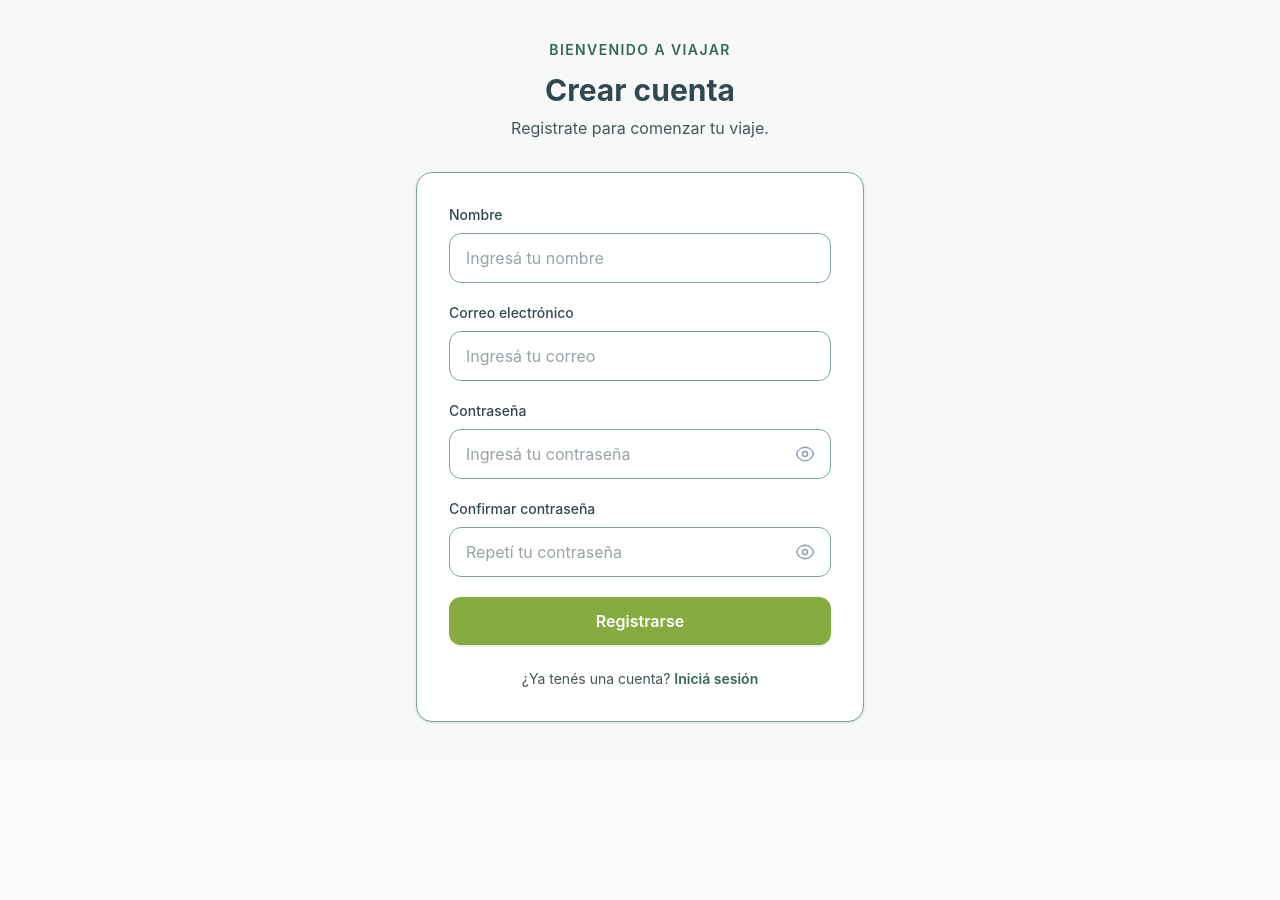
Test: Pruebas del registro › muestra errores cuando los campos están vacíos
What coordinates should you click on to do the following:
click the button "Registrarse"
I would click on:
 (640, 621)
Its box is [449,597,831,645].
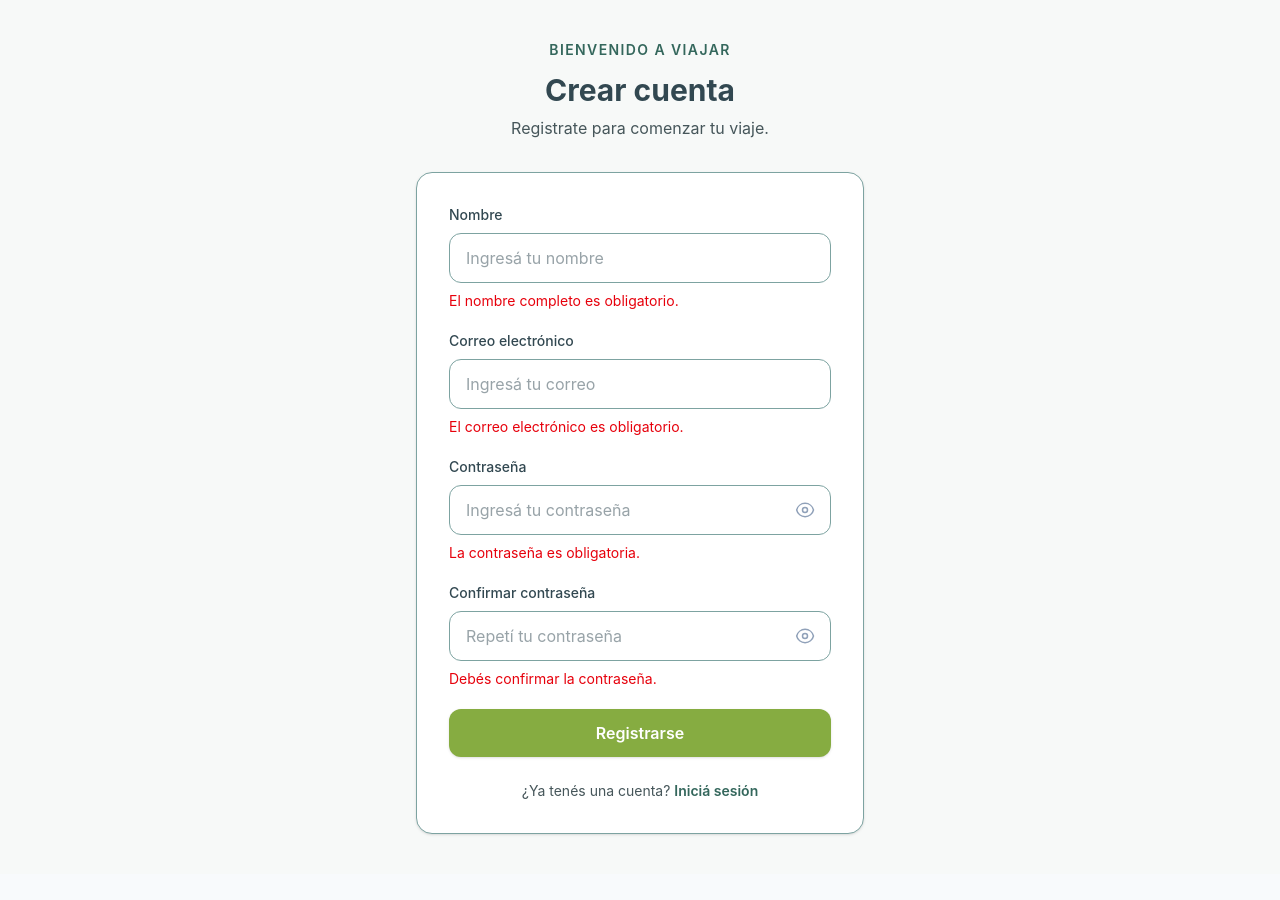
Expected: the text "El nombre completo es obligatorio." is shown, [449,292,679,309]
Expected: the text "El correo electrónico es obligatorio." is shown, [449,418,684,435]
Expected: the text "La contraseña es obligatoria." is shown, [449,544,640,561]
